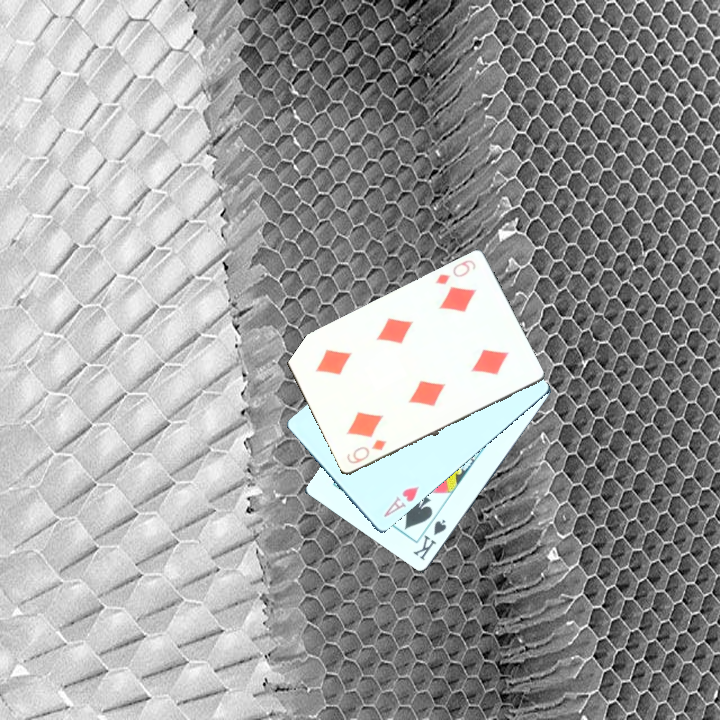6d: (431, 255, 479, 287), (342, 435, 389, 466)
Ah: (379, 483, 421, 520)
Ks: (409, 508, 449, 563)
